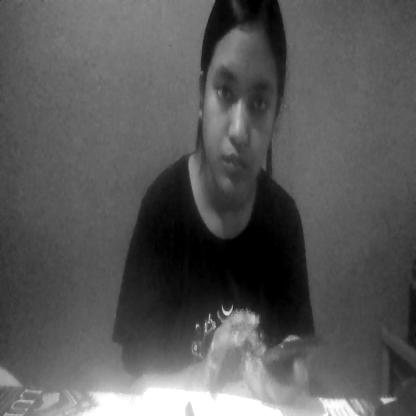Normal: (198, 7, 279, 218)
